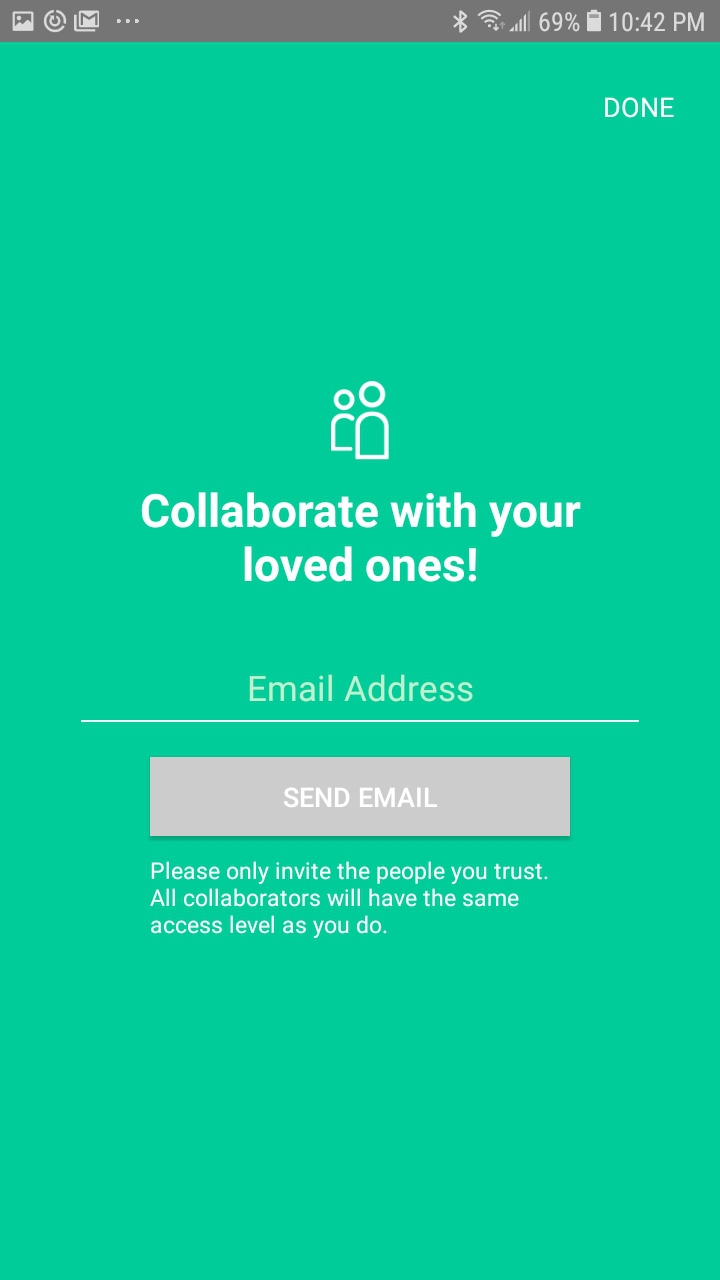EditText: (81, 674, 640, 723)
Icon: (331, 381, 391, 461)
Text: (142, 492, 582, 583), (150, 861, 548, 940), (249, 673, 474, 702), (604, 97, 675, 119)
TextButton: (150, 757, 571, 837)
UpperTaskBar: (1, 1, 720, 43)
